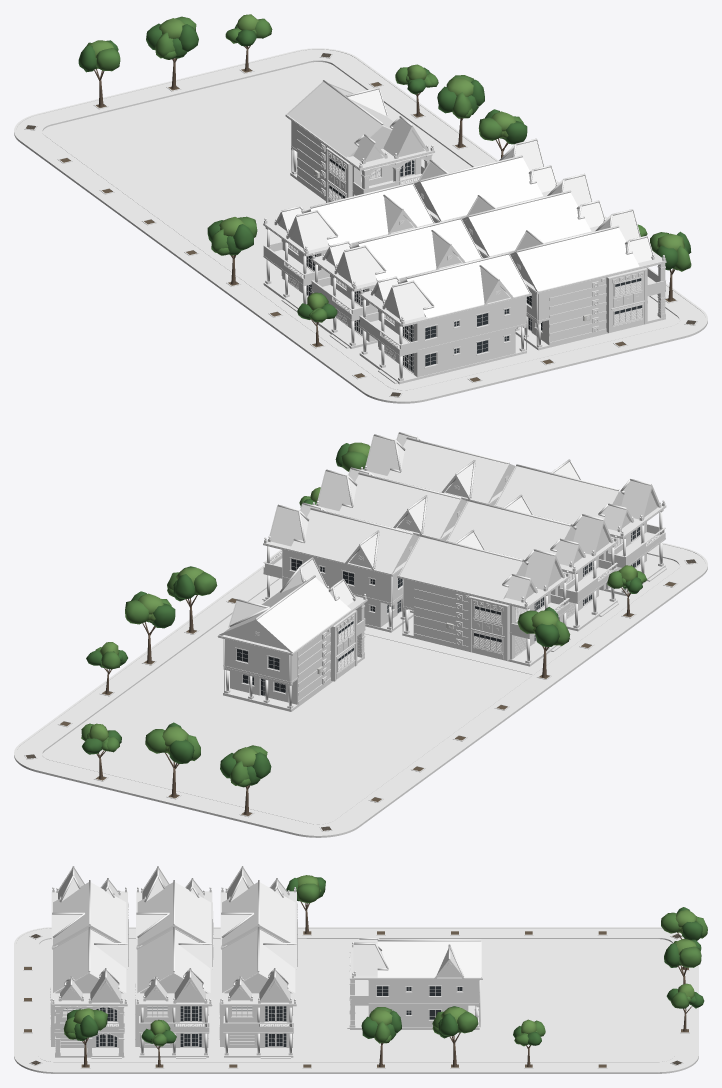
The model's file is khutroqtsc3.glb.
3 views of the same model, one above another, from view 1: azimuth 30°, elevation 25°; view 2: azimuth 150°, elevation 25°; view 3: azimuth 270°, elevation 25° (orthographic). The views are drawn at different scales.
Parts seen in each view (by area): view 1: TH_Roof (×6), Plot_41.83x83.45m, SW_Paver_Red, TH_Mass (×2), TH_Roof.001, SW_Paver_YellowOuter, Concrete_Ground, SW_Curb, SW_Paver_YellowInner, TH_RoofSlab (×4), SW_InnerEdge, SP_BandBase.001 (+12 smaller); view 2: Plot_41.83x83.45m, TH_Roof (×6), SW_Paver_Red, TH_Mass (×3), TH_Roof.001, SW_Paver_YellowOuter, SW_Curb, Concrete_Ground, SP_BandBase (×2), SW_Paver_YellowInner, SW_InnerEdge, Tree_N_-9 (+12 smaller); view 3: Plot_41.83x83.45m, TH_Roof (×6), SW_Paver_Red, Concrete_Ground, TH_Mass (×3), SW_Paver_YellowOuter, TH_Roof.001, SW_Curb, SW_Paver_YellowInner, SW_InnerEdge, TH_RoofSlab (×3), Tree_E_-33 (+13 smaller).
Part boxes in pixels (x1,y1,x2,y2): TH_Roof (×6): (277,82,603,320); Plot_41.83x83.45m: (42,62,471,281); SW_Paver_Red: (22,52,699,398); TH_Mass (×2): (291,121,525,377); TH_Roof.001: (515,211,651,291); SW_Paver_YellowOuter: (16,49,705,400); Concrete_Ground: (246,273,679,389); SW_Curb: (14,48,707,403); SW_Paver_YellowInner: (37,58,684,391); TH_RoofSlab (×4): (263,114,531,326); SW_InnerEdge: (41,60,680,390); SP_BandBase.001: (549,277,606,342); Plot_41.83x83.45m: (43,614,531,823); TH_Roof (×6): (224,461,658,651); SW_Paver_Red: (22,545,699,832); TH_Mass (×3): (223,550,550,704); TH_Roof.001: (366,434,507,502); SW_Paver_YellowOuter: (16,544,705,834); SW_Curb: (14,542,707,837); Concrete_Ground: (249,554,679,674); SP_BandBase (×2): (297,582,469,704); SW_Paver_YellowInner: (37,551,684,825); SW_InnerEdge: (41,552,680,824); Tree_N_-9: (220,745,271,814); Plot_41.83x83.45m: (306,939,673,1061); TH_Roof (×6): (52,869,480,1000); SW_Paver_Red: (21,930,691,1069); Concrete_Ground: (39,938,306,1061); TH_Mass (×3): (140,980,478,1047); SW_Paver_YellowOuter: (16,928,696,1071); TH_Roof.001: (53,929,127,999); SW_Curb: (14,927,698,1073); SW_Paver_YellowInner: (35,936,677,1063); SW_InnerEdge: (38,937,674,1062); TH_RoofSlab (×3): (136,946,482,1006); Tree_E_-33: (63,1008,107,1067).
Size of the model in its own units: 43.98 by 10.73 by 84.55.
